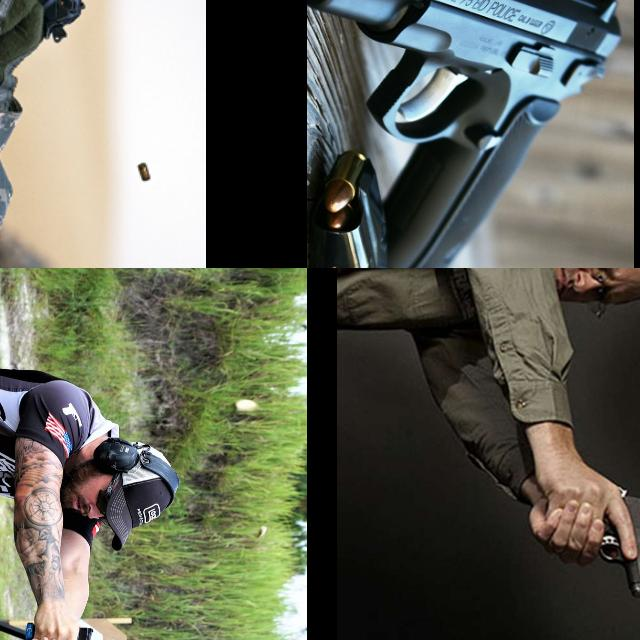handgun: (307, 0, 624, 268), (28, 0, 98, 97), (598, 490, 640, 602)
